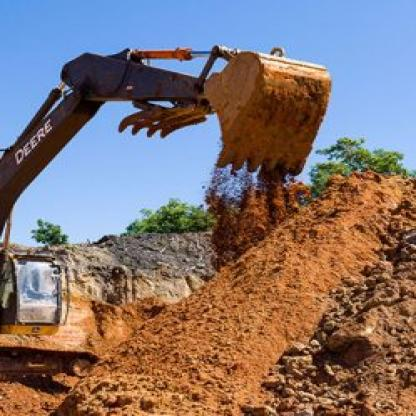excavator: (0, 32, 349, 380)
